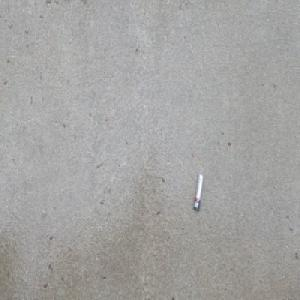Battery: (193, 174, 204, 214)
